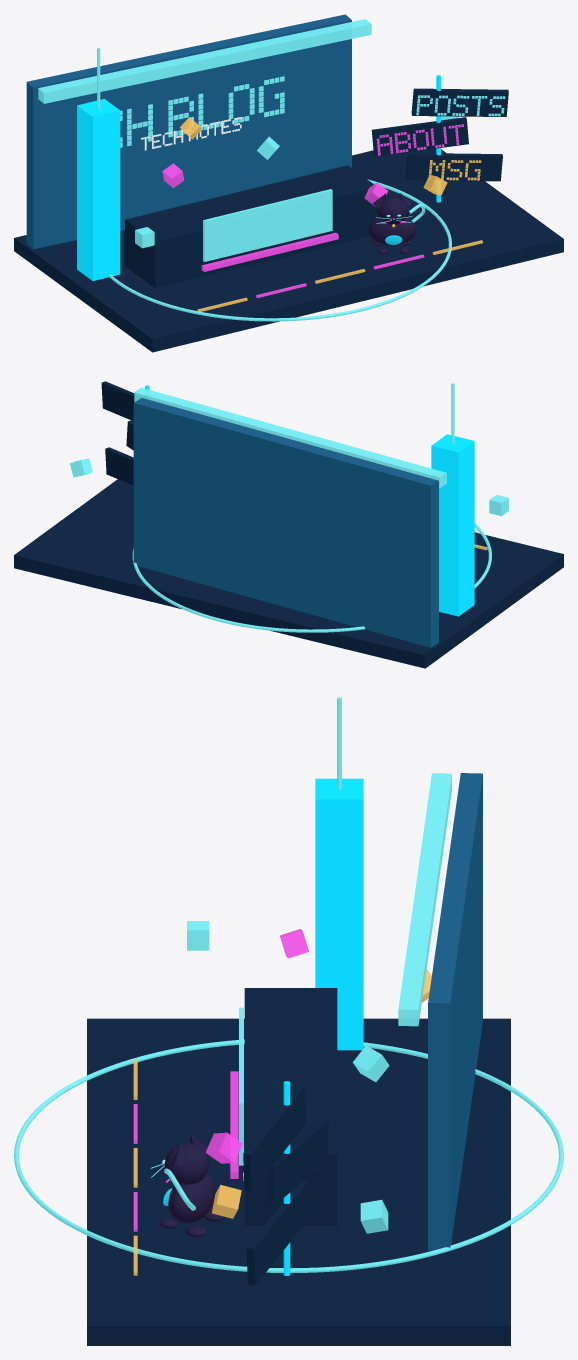
The model's file is neon-blog-scene.glb.
3 renders of one model, top to bottom at view 1: azimuth 30°, elevation 25°; view 2: azimuth 150°, elevation 25°; view 3: azimuth 270°, elevation 25°, orthographic. The views are drawn at different scales.
Visible parts, largest first — view 1: rear_wall, floor_base, store_counter, antenna_tower, roof_light_bar, terminal_screen, sign_messages, sign_posts, sign_about, main_sign_text, floor_cyan_halo, terminal_magenta_bar (+6 smaller); view 2: rear_wall, floor_base, antenna_tower, roof_light_bar, floor_cyan_halo, sign_posts, sign_messages, floating_neon_cube_1; view 3: floor_base, rear_wall, store_counter, antenna_tower, floor_cyan_halo, roof_light_bar, sign_posts, sign_messages, sign_about, cat_body, cat_head, floating_neon_cube_5 (+2 smaller).
Boxes of the visible parts, x1,y1,x2,y2 form: rear_wall: (26,14,351,249); floor_base: (14,148,563,352); store_counter: (125,165,378,288); antenna_tower: (77,98,120,280); roof_light_bar: (38,19,371,103); terminal_screen: (203,189,332,261); sign_messages: (405,153,502,181); sign_posts: (411,88,508,116); sign_about: (371,117,468,156); main_sign_text: (120,76,284,147); floor_cyan_halo: (109,179,451,321); terminal_magenta_bar: (201,232,338,271); rear_wall: (133,398,438,647); floor_base: (14,479,563,668); antenna_tower: (431,434,474,616); roof_light_bar: (134,387,446,488); floor_cyan_halo: (132,523,491,632); sign_posts: (101,381,134,421); sign_messages: (105,447,133,485); floating_neon_cube_1: (489,494,508,516); floor_base: (87,1018,510,1345); rear_wall: (428,773,482,1251); store_counter: (244,988,337,1225); antenna_tower: (315,778,363,1050); floor_cyan_halo: (14,1039,563,1272); roof_light_bar: (398,773,451,1026); sign_posts: (243,1085,305,1191); sign_messages: (246,1180,309,1285); sign_about: (266,1119,328,1206); cat_body: (168,1173,215,1223); cat_head: (164,1143,208,1184); floating_neon_cube_5: (205,1132,242,1163).
Bounding box in the file's own units: 7.2 × 3.96 × 5.45.
